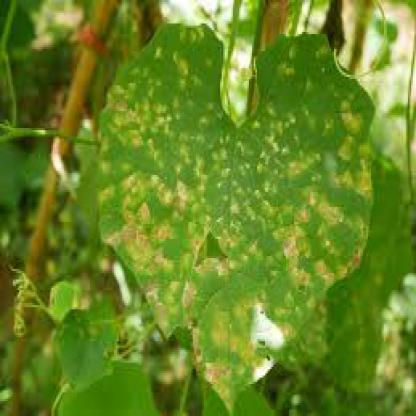DownyMildew: (127, 60, 361, 266), (146, 149, 297, 335)
